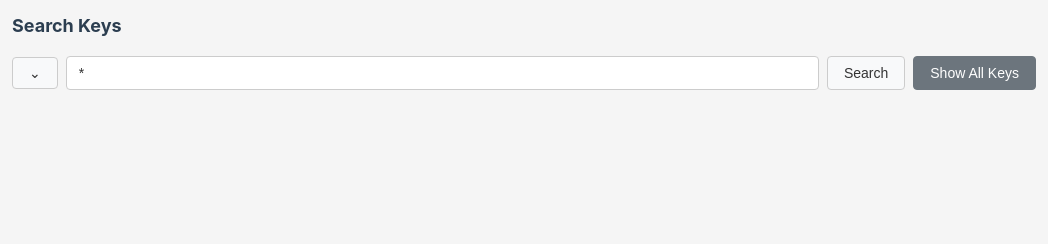
Test: KeysSearchSection - Search History › should display history items when history is not empty
The image size is (1048, 244).
Click the button titled "Search History" at (35, 73), box [12,57,58,89]
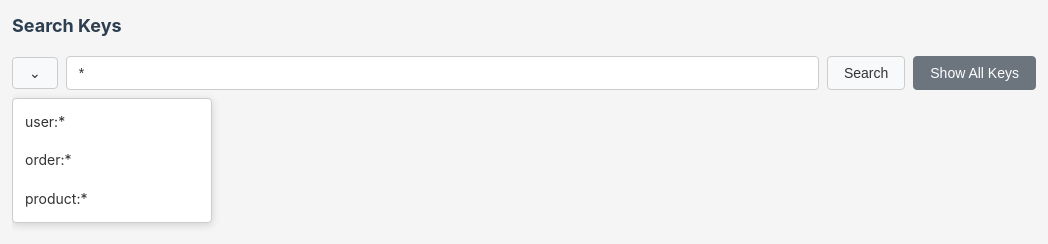
Result: the list item "user:*" is shown at [25,113,65,130]
Result: the list item "order:*" is shown at [25,151,72,168]
Result: the list item "product:*" is shown at [25,190,88,207]
